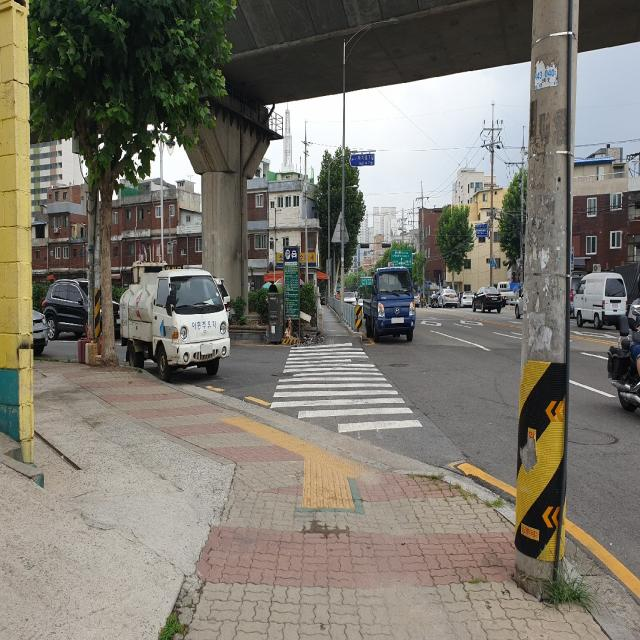횡단보도: (269, 340, 424, 435)
